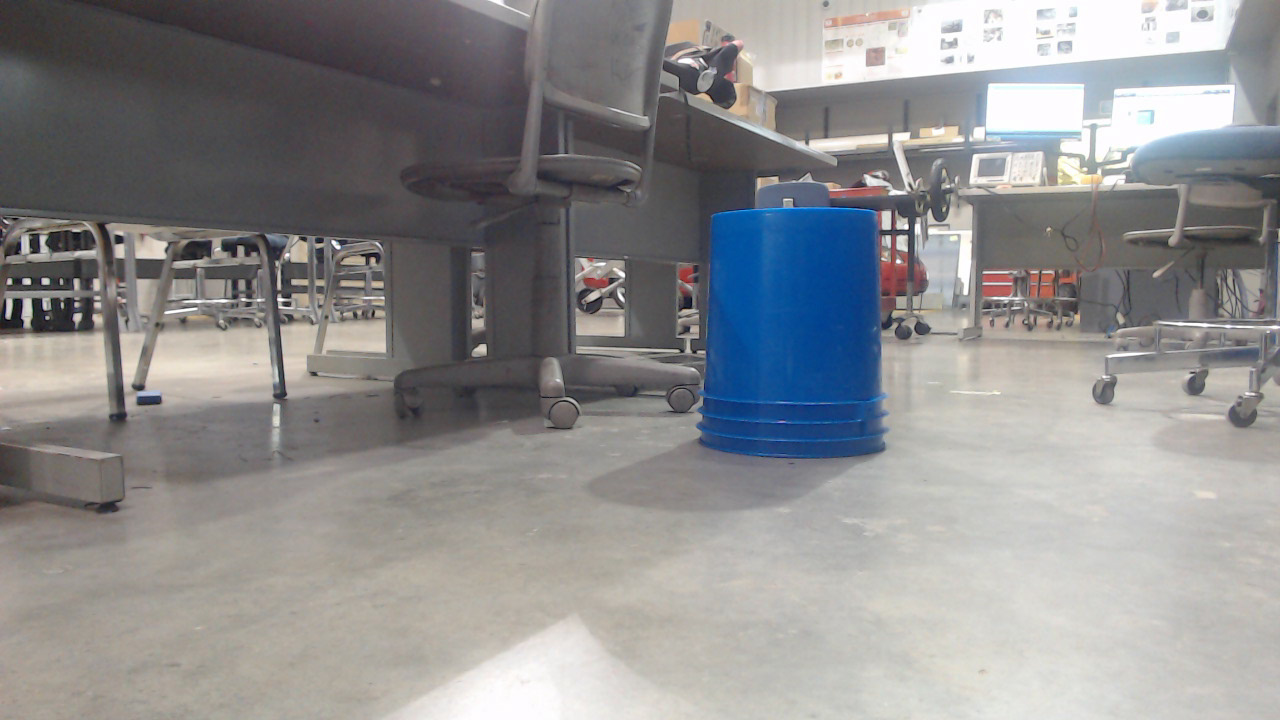blue_bucket: (697, 208, 900, 469)
